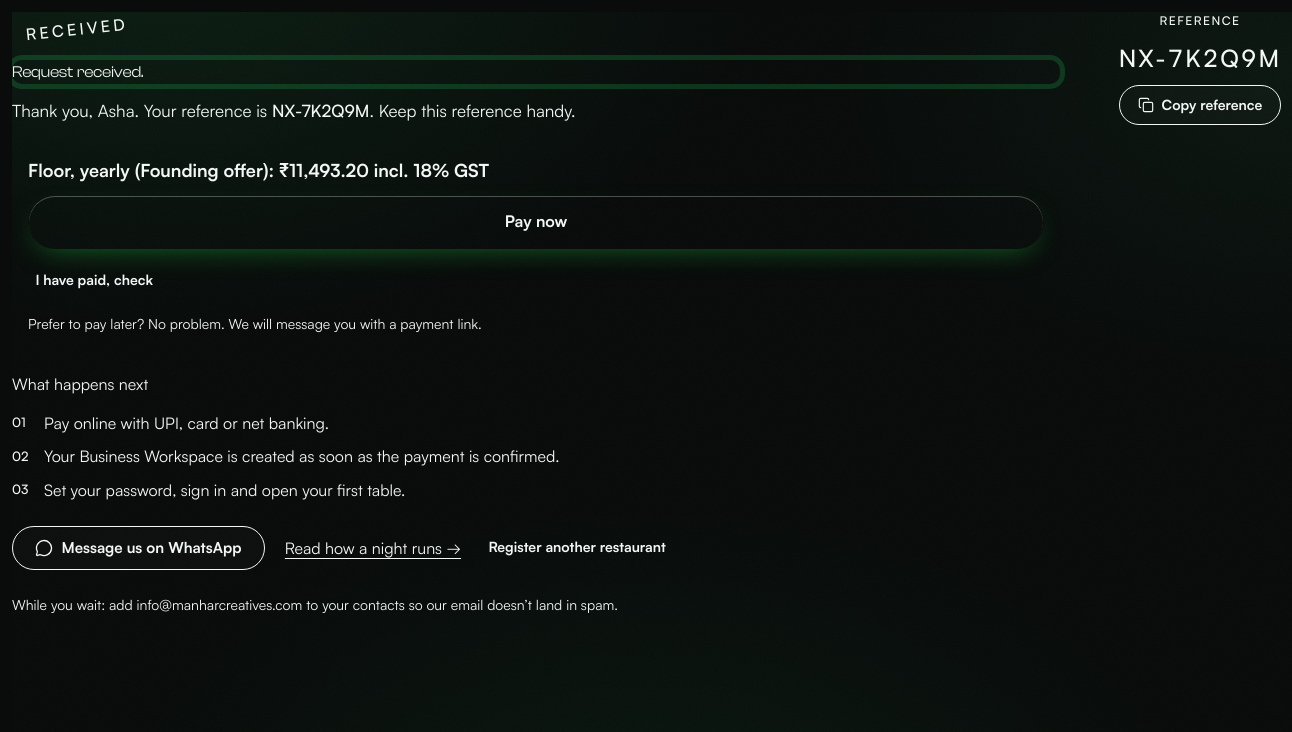
Test: RegistrationTicket: claim the account after paying › has exactly one live status region inside the ticket
The image size is (1292, 732).
Click the button "I have paid, check" at (94, 281), box [28,261,160,301]
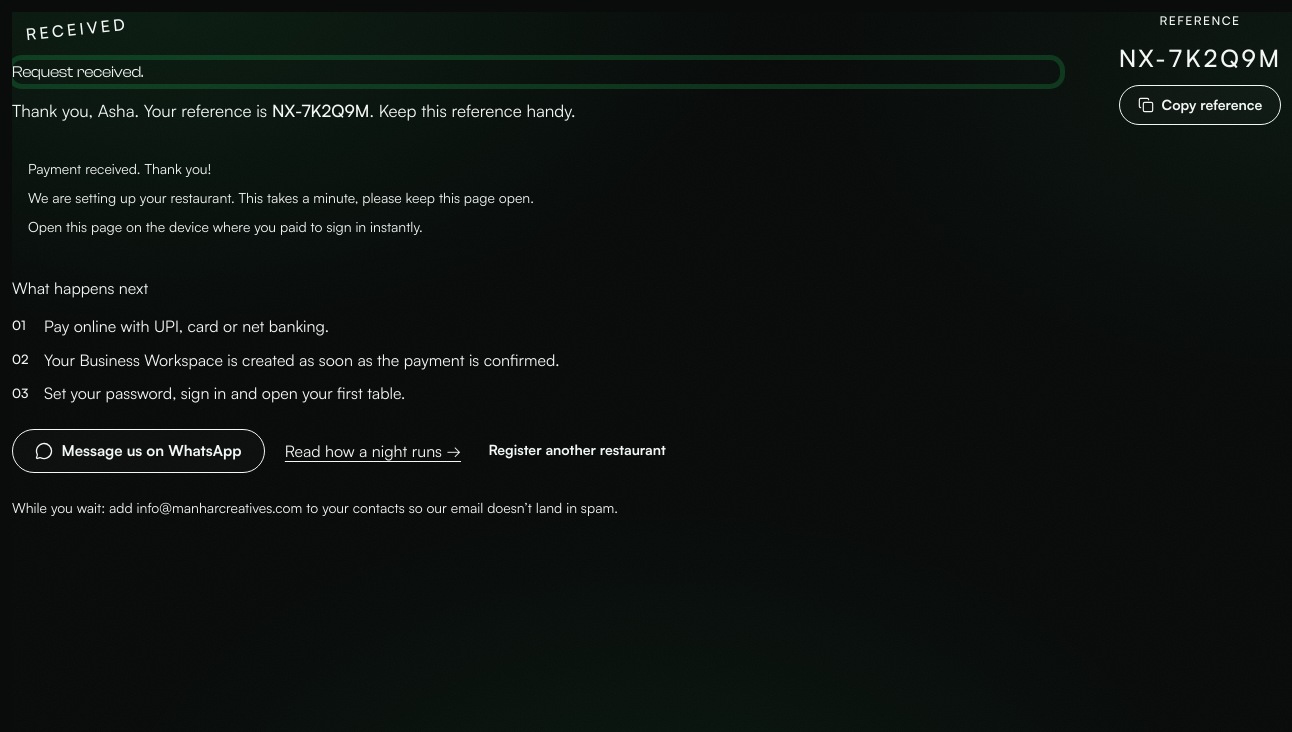
Expected: the number of messages is 1, [28,160,534,235]
Result: the element with test id "claim" is shown at [28,189,534,235]
